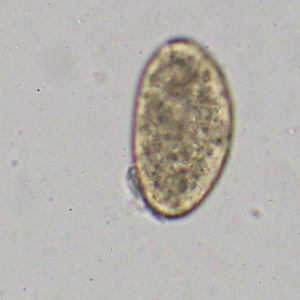Fasciola_hepatica_egg: (130, 33, 236, 224)
